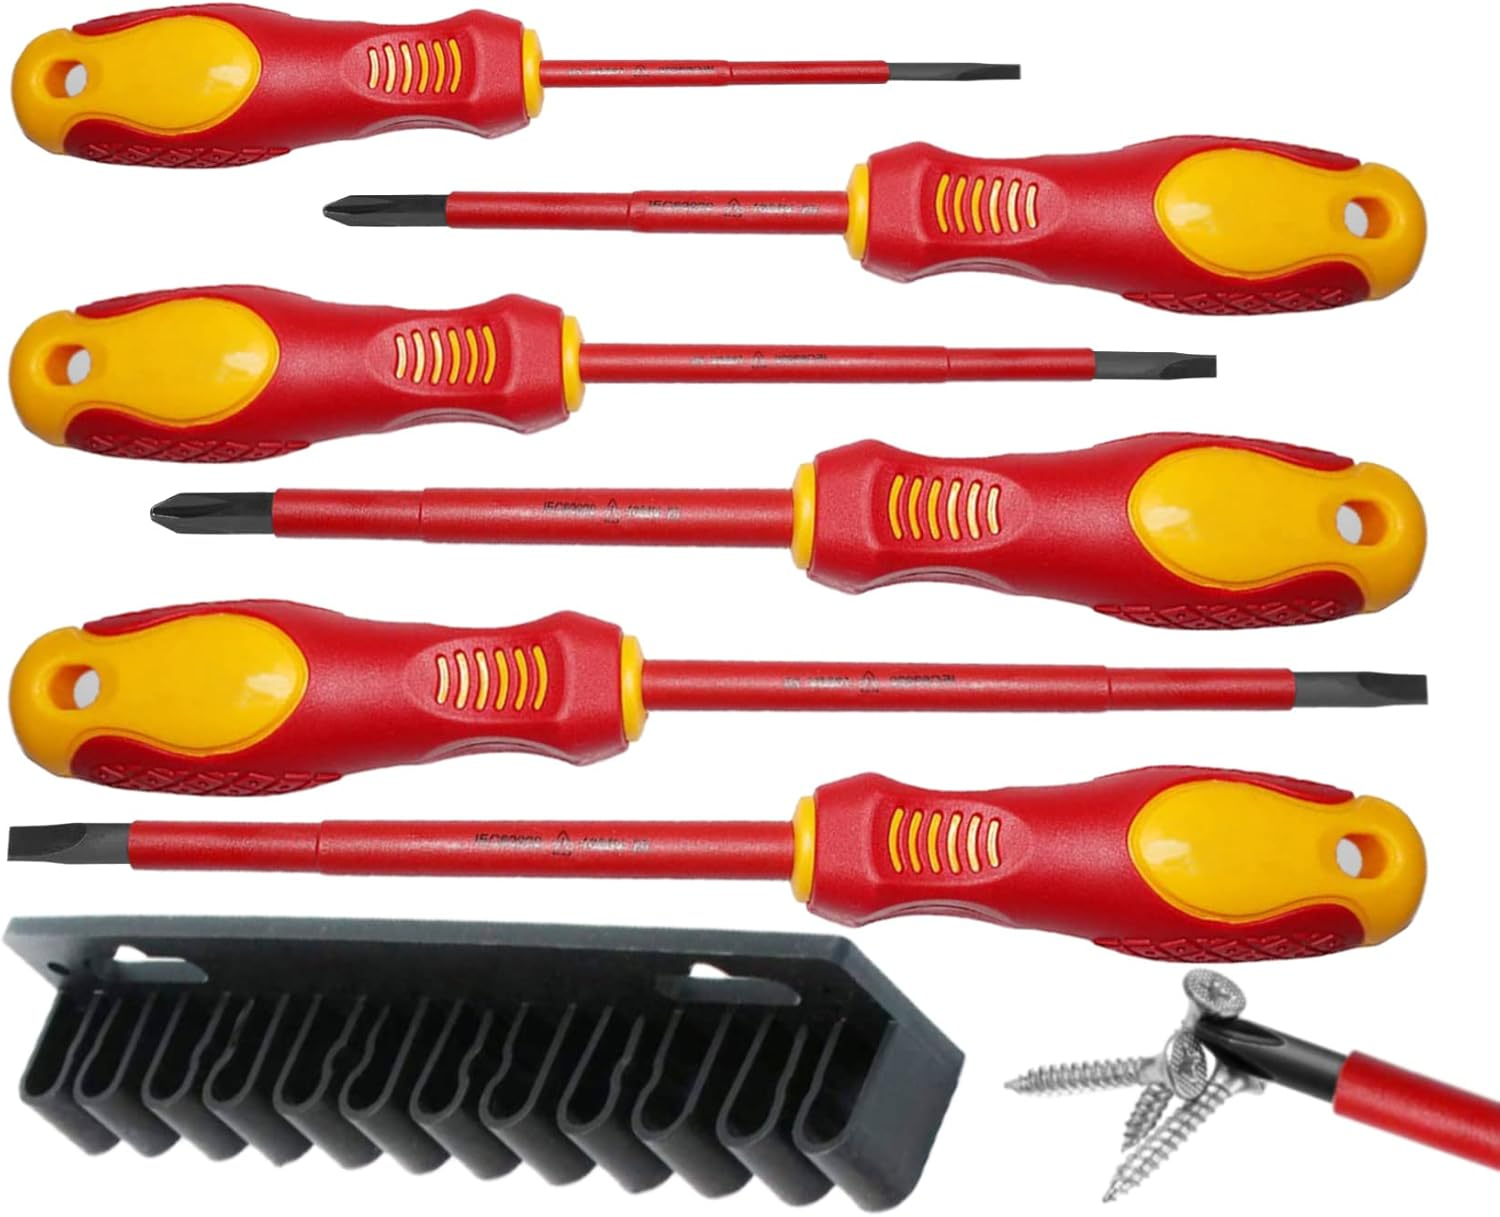screwdriver: (11, 599, 1433, 800), (7, 770, 1430, 962), (147, 430, 1430, 630), (10, 283, 1221, 466), (320, 138, 1428, 318), (12, 1, 1026, 173)
